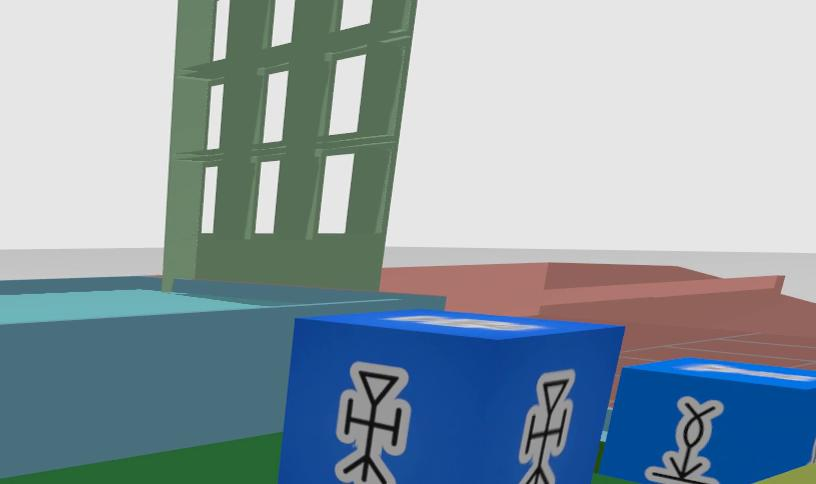KFS_REAL: (277, 310, 622, 484), (599, 357, 815, 484), (335, 364, 411, 484), (644, 396, 723, 484), (518, 370, 575, 484)
